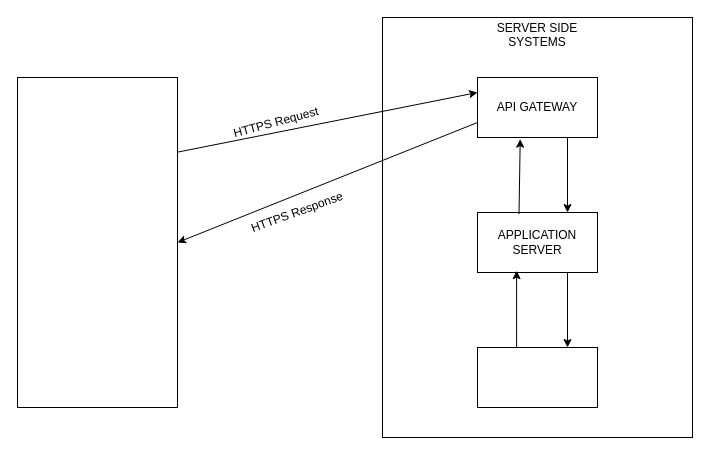
Some shapes in this 710 by 455 pixel diagram are drawn without their labels. Each missing label, with the centre of its shape:
"CLIENT (Web Browser/Mobile App)" belongs at point 97,242.
"DATABASE" belongs at point 537,377.
